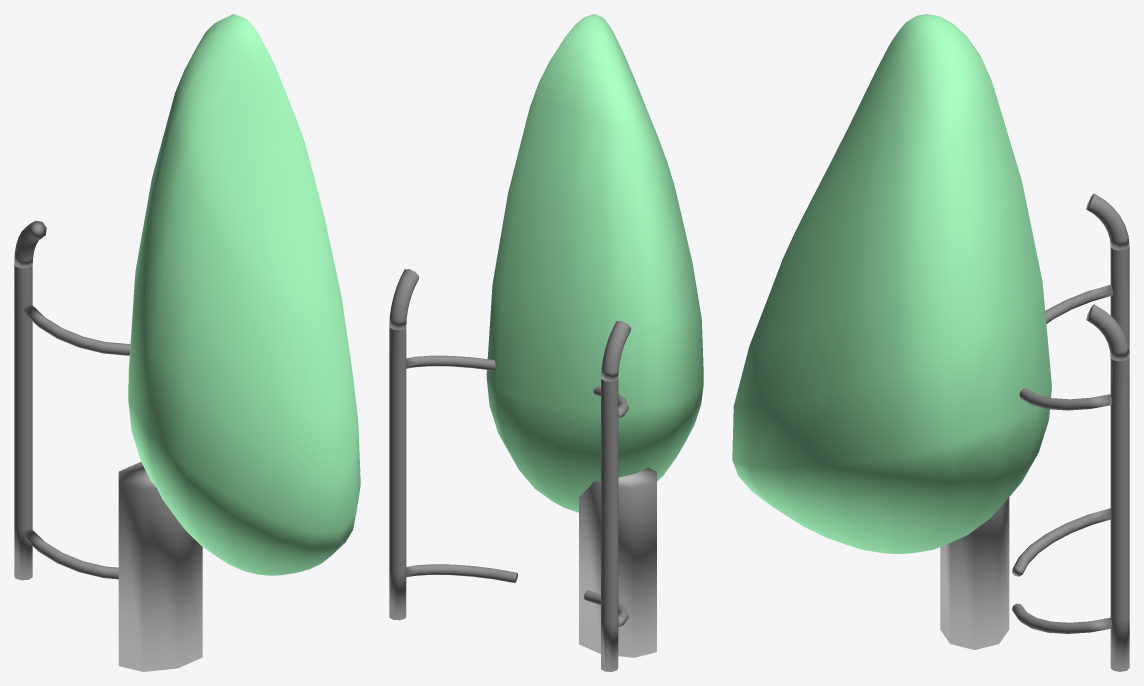
File: Heli_cabi.obj
3 renders of one model, left to right at view 1: azimuth 30°, elevation 25°; view 2: azimuth 150°, elevation 25°; view 3: azimuth 270°, elevation 25°, orthographic. The views are drawn at different scales.
Visible parts, largest first — view 1: Capsule01, Cylinder02, Cylinder04, Cylinder03, Cylinder05, Cylinder06; view 2: Capsule01, Cylinder02, Cylinder04, Cylinder07, Cylinder09, Cylinder06, Cylinder08, Cylinder10; view 3: Capsule01, Cylinder02, Cylinder07, Cylinder04, Cylinder05, Cylinder09, Cylinder06, Cylinder08, Cylinder10, Cylinder03.
Boxes of the visible parts, <box> form: Capsule01: <box>128,14,360,575</box>; Cylinder02: <box>118,462,202,671</box>; Cylinder04: <box>14,264,32,580</box>; Cylinder03: <box>23,305,130,355</box>; Cylinder05: <box>23,529,118,579</box>; Cylinder06: <box>14,220,46,268</box>; Capsule01: <box>486,14,703,512</box>; Cylinder02: <box>579,468,656,657</box>; Cylinder04: <box>601,378,618,671</box>; Cylinder07: <box>389,327,406,620</box>; Cylinder09: <box>406,564,517,582</box>; Cylinder06: <box>601,320,631,381</box>; Cylinder08: <box>389,269,419,329</box>; Cylinder10: <box>406,355,495,370</box>; Capsule01: <box>732,14,1051,553</box>; Cylinder02: <box>940,497,1009,649</box>; Cylinder07: <box>1110,357,1129,671</box>; Cylinder04: <box>1110,247,1129,355</box>; Cylinder05: <box>1012,508,1110,576</box>; Cylinder09: <box>1012,603,1112,633</box>; Cylinder06: <box>1086,193,1129,250</box>; Cylinder08: <box>1086,304,1129,361</box>; Cylinder10: <box>1019,388,1112,410</box>; Cylinder03: <box>1045,284,1113,323</box>.
Size of the model in its own units: 0.6163 by 1.55 by 0.8709.
